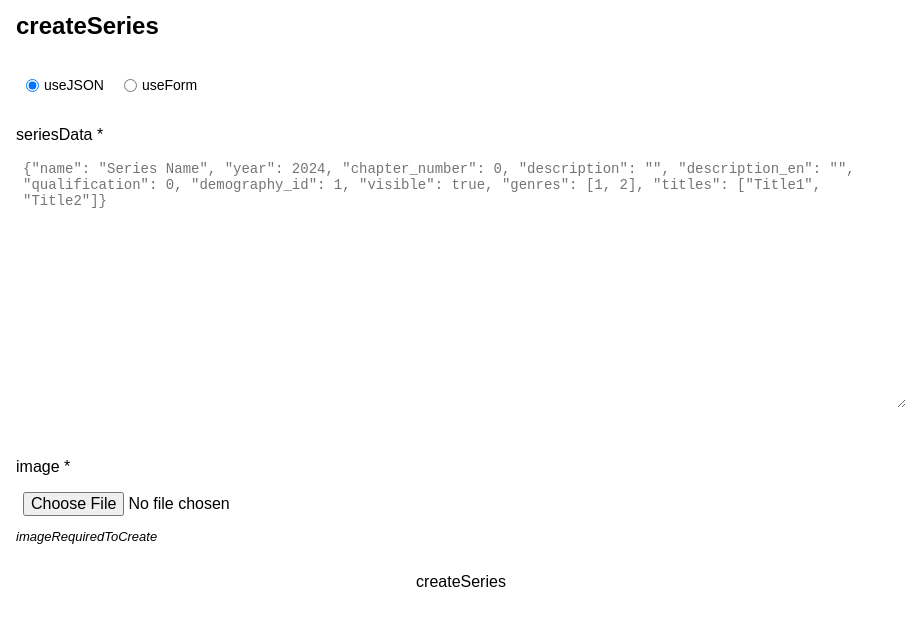
AdminPanel › toggles between JSON and Form modes
The image size is (923, 626).
Check: the field labelled "seriesName" is not shown
Click the radio button labelled "useForm". click: [130, 85]
box: [124,79,137,92]
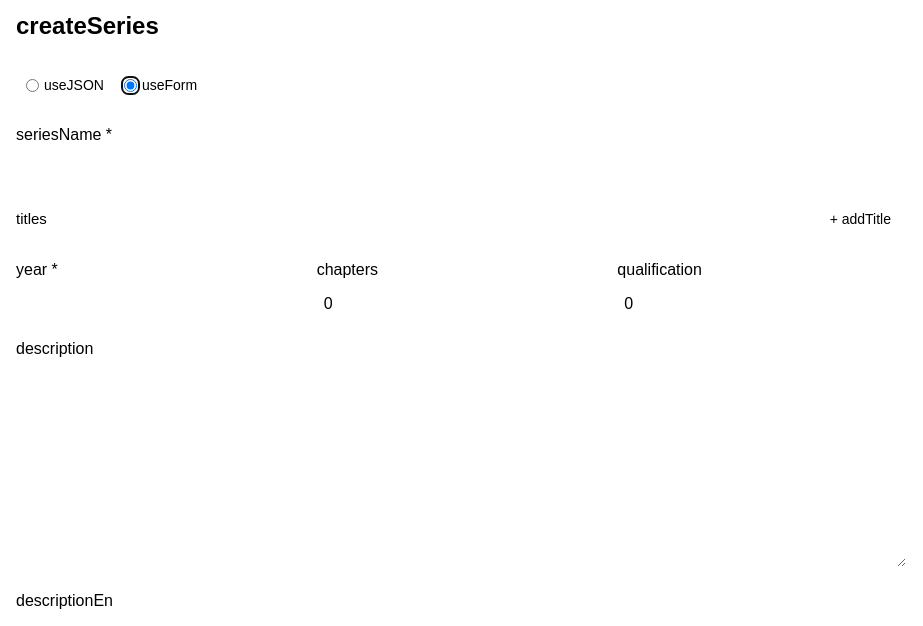
Click the radio button labelled "useJSON". click: [32, 85]
box: [26,79,39,92]
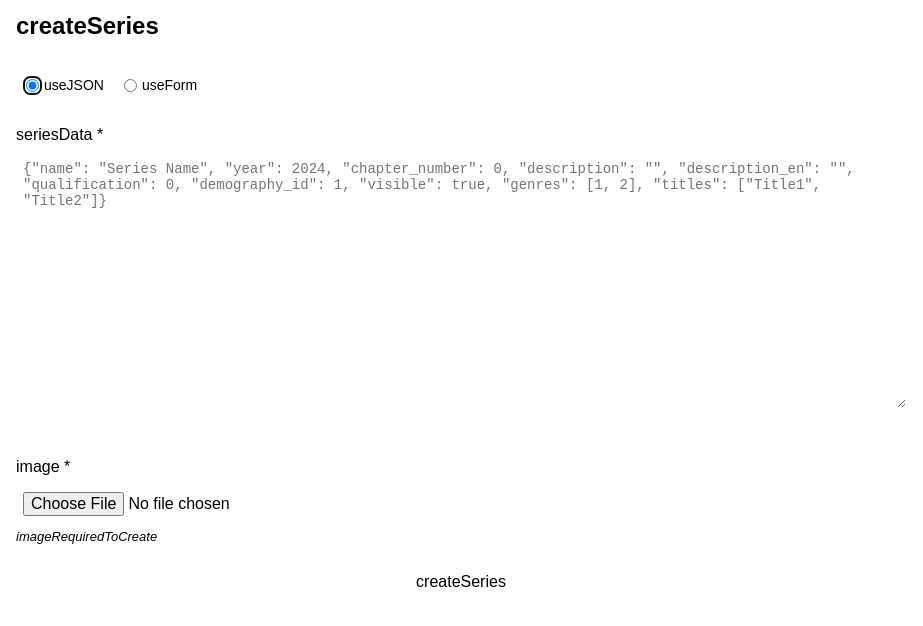
Check: the label labelled "seriesName" is gone
